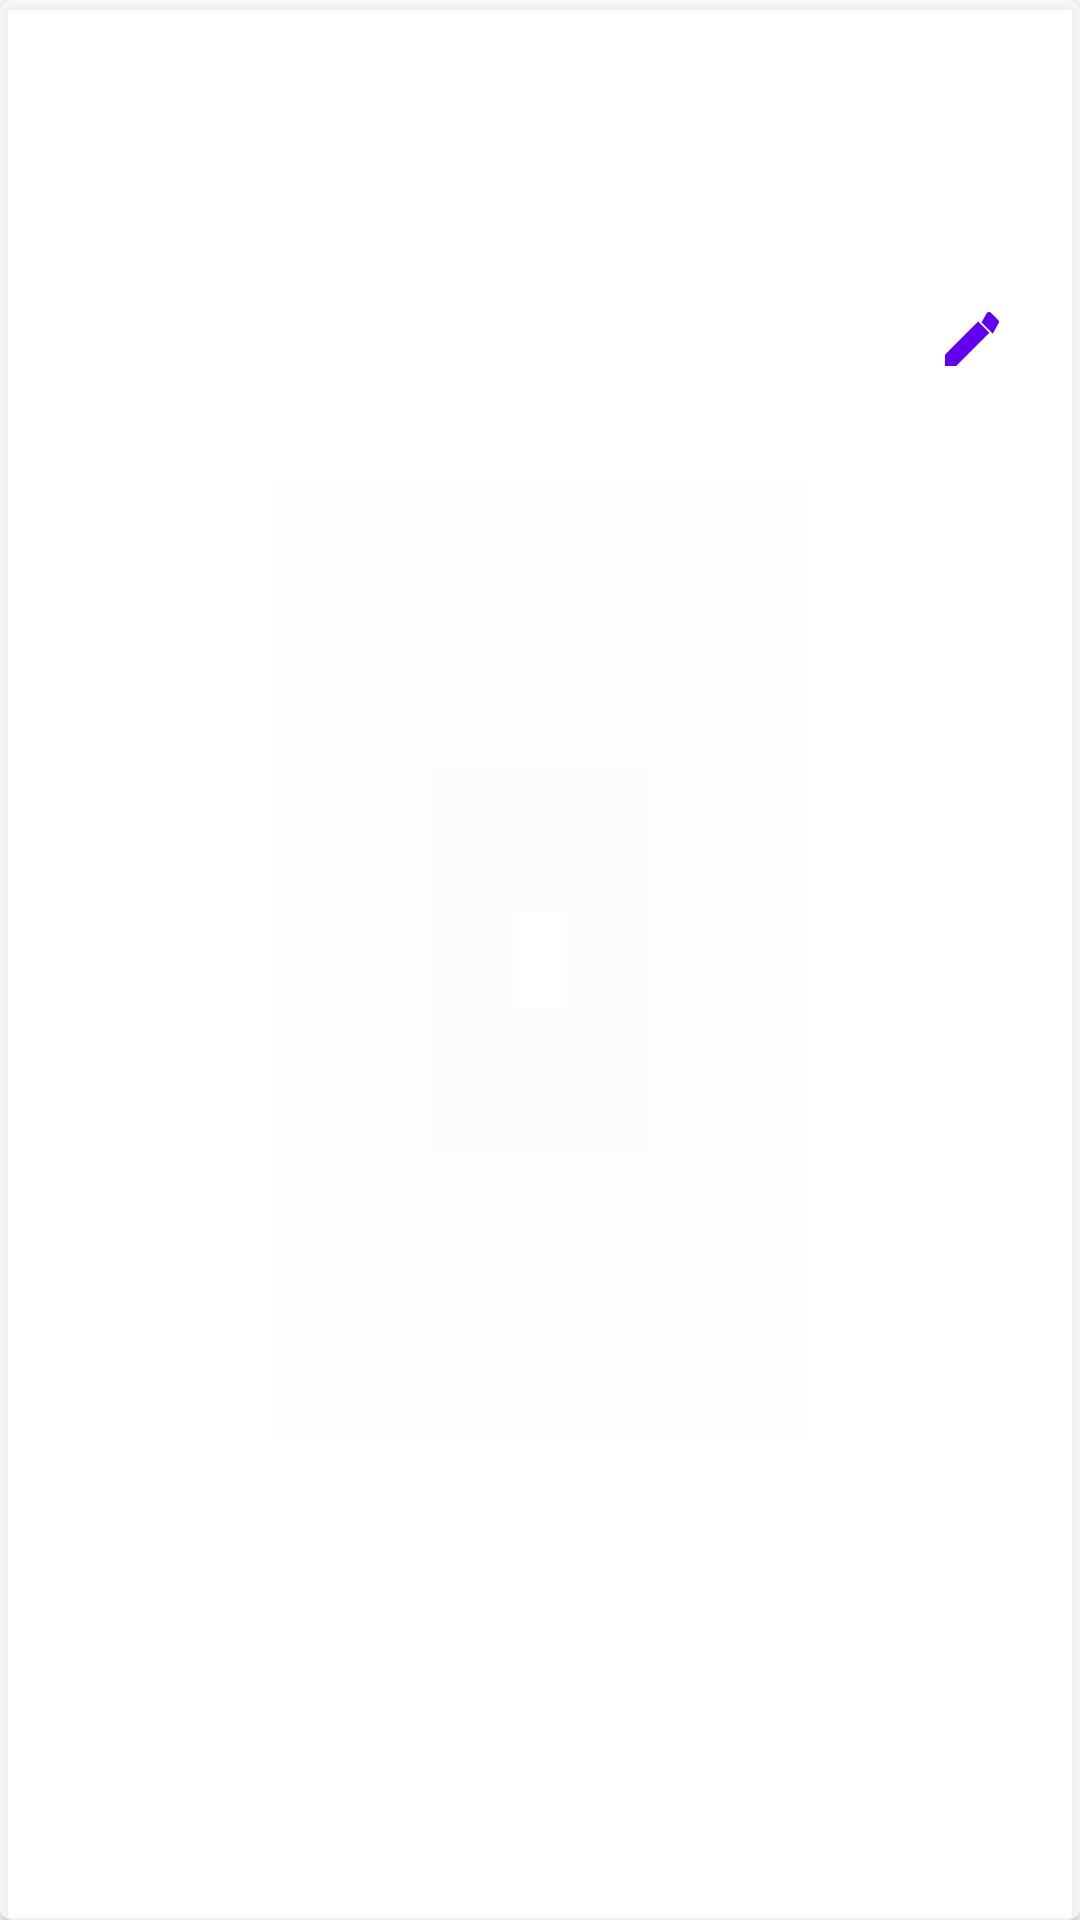

Icons on this 1080w x 1920h Android screen, each with its box as (x1, y1, x2, y2):
edit: (945, 312, 999, 366)
